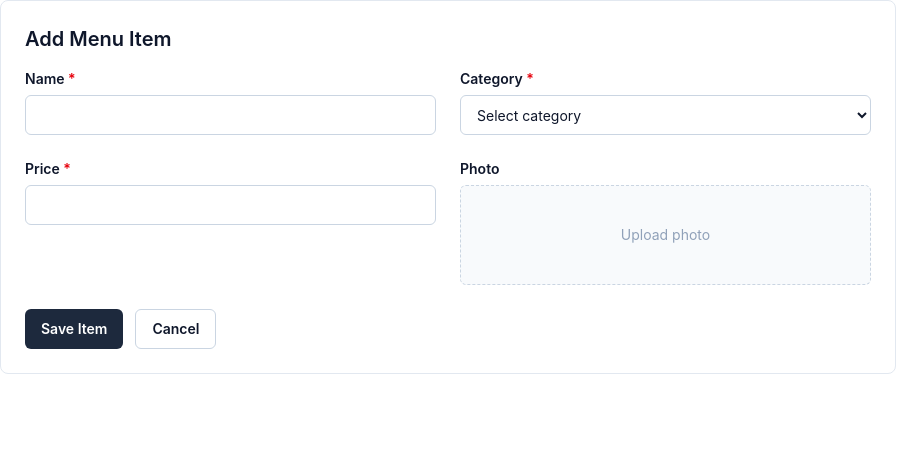
Test: AddMenuItemForm › AC2 — price must be a positive number › reject: a negative price is also rejected
The width and height of the screenshot is (913, 453).
In the field labelled "Name *": (230, 115) [25,95,436,135], type "Spring Rolls"
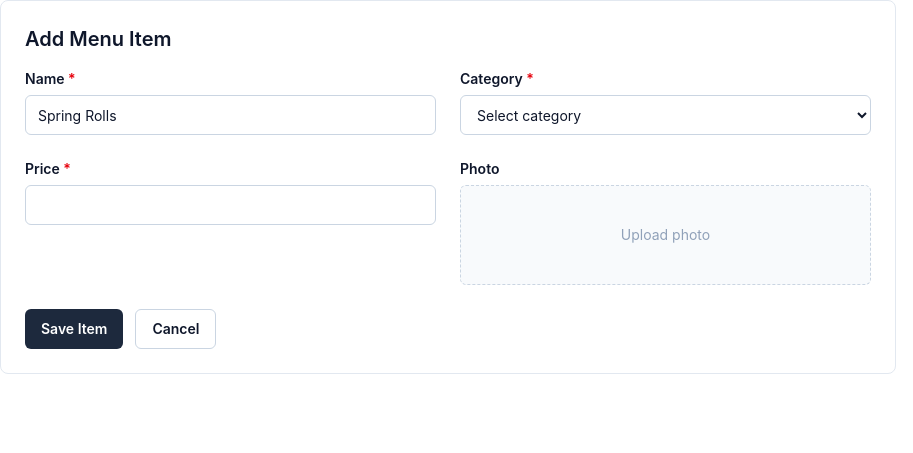
Select "cat-1" in the dropdown labelled "Category *": (666, 115) [460,95,871,135]
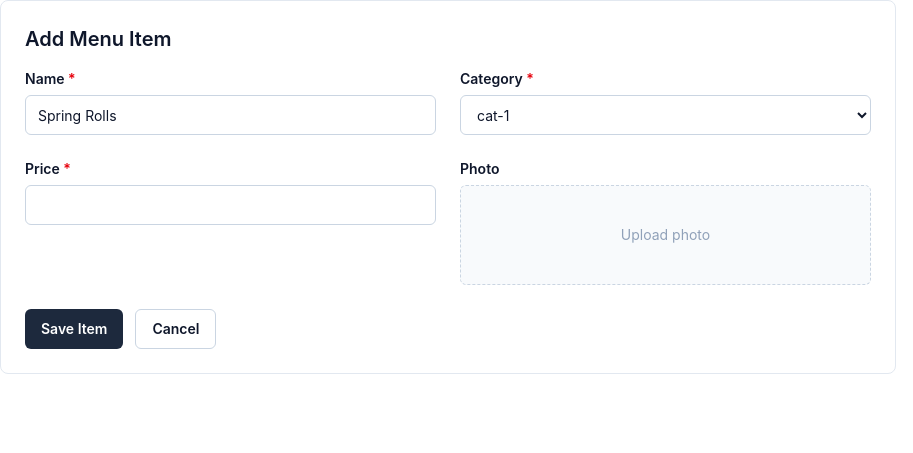
In the number field labelled "Price *": (230, 205) [25,185,436,225], type "-5"
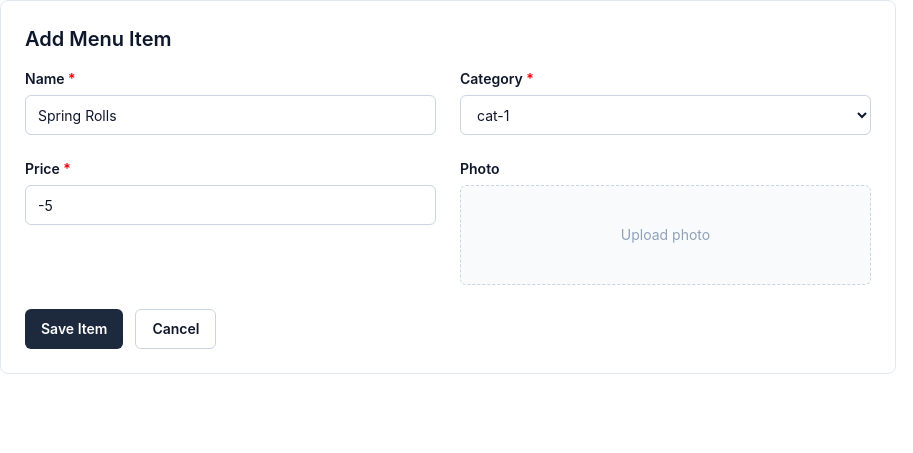
Click the button "Save Item": (74, 329) [25,309,124,349]
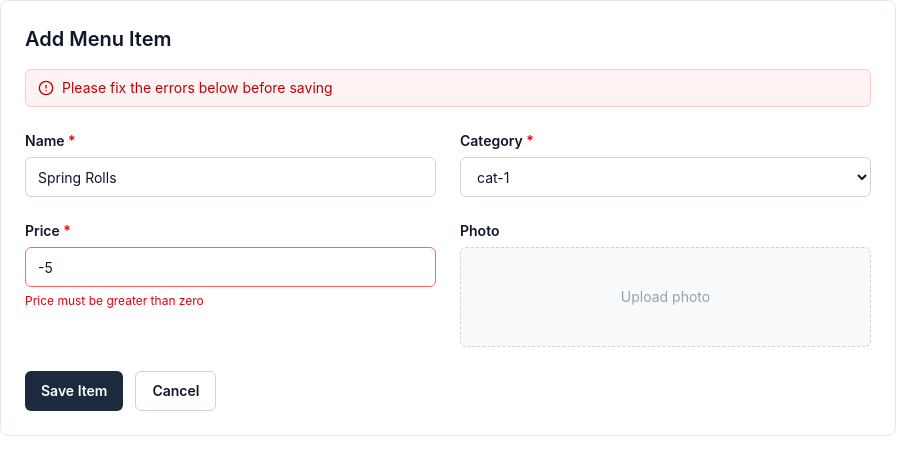
Check: the text "Price must be greater than zero" is shown, box [25,293,204,308]
Check: the text "Please fix the errors below before saving" is shown, box [25,69,871,107]
